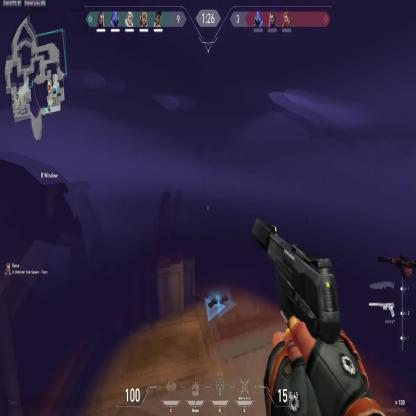enemy: (366, 206, 414, 370)
